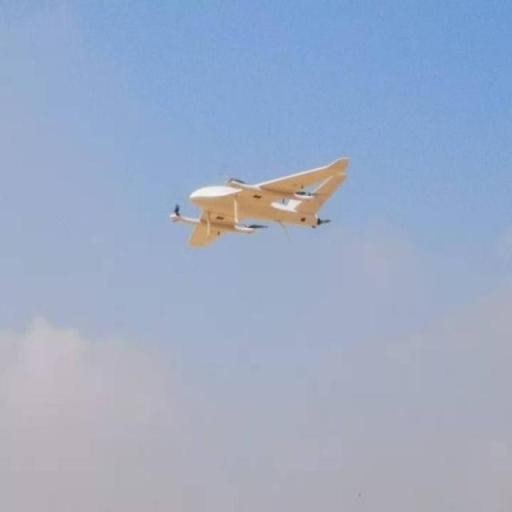uav: (162, 158, 368, 249)
